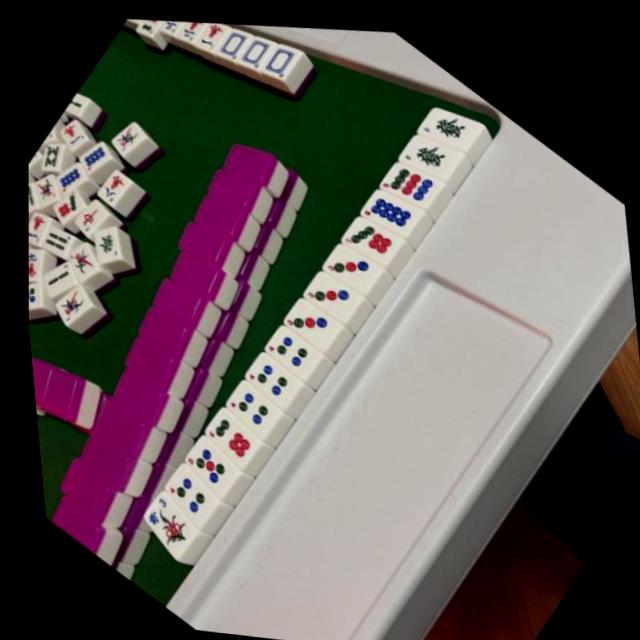bf3: (121, 479, 200, 552)
hdg: (401, 121, 470, 184), (423, 93, 492, 156)
sd3: (282, 286, 347, 347), (322, 230, 386, 289), (300, 259, 363, 318)
sd4: (237, 343, 304, 404), (149, 456, 215, 516), (217, 370, 283, 430), (259, 313, 324, 373)
sd5: (171, 426, 238, 487)
sd6: (193, 399, 262, 462)
sd7: (339, 203, 409, 267)
sd8: (362, 177, 429, 239)
sd9: (380, 145, 452, 212)
